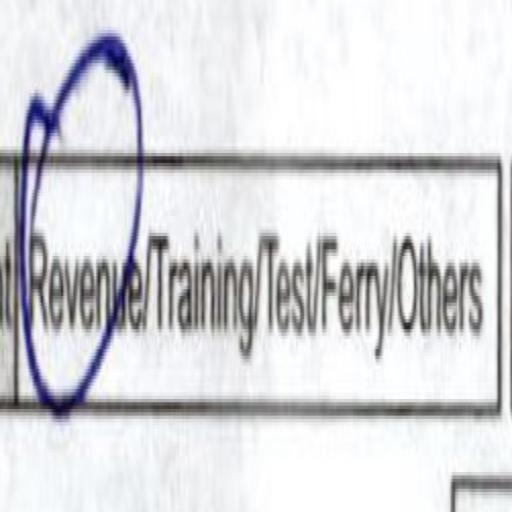check: (14, 44, 146, 430)
